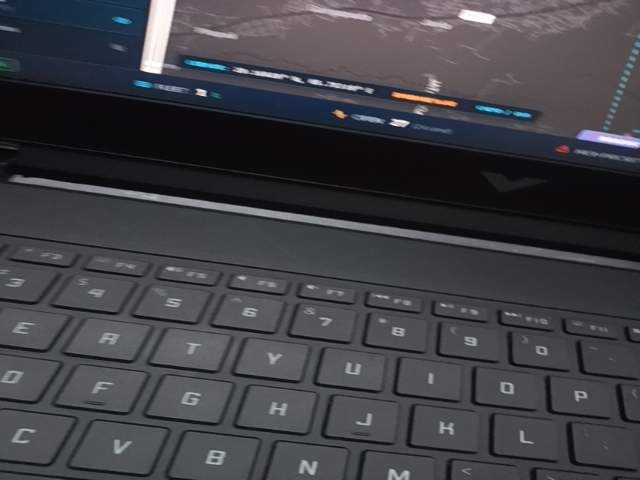pothole: (102, 403, 306, 480)
